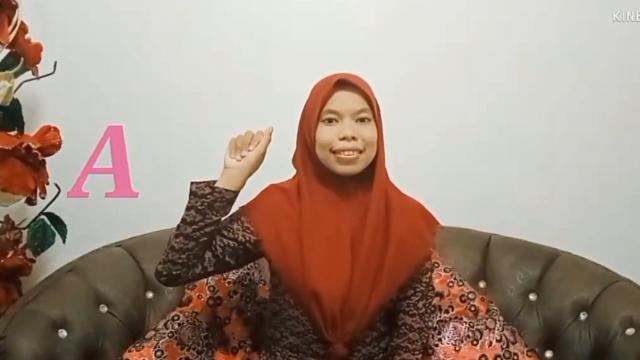A: (221, 123, 277, 175)
